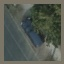car: (21, 21, 43, 47)
